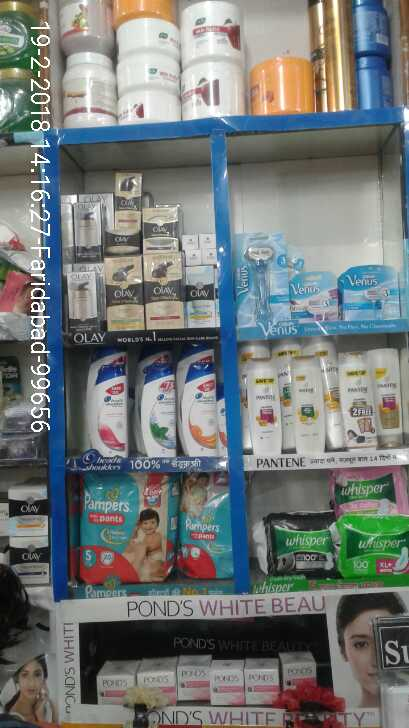venus: (238, 232, 288, 321), (341, 265, 403, 320), (293, 275, 341, 320)
